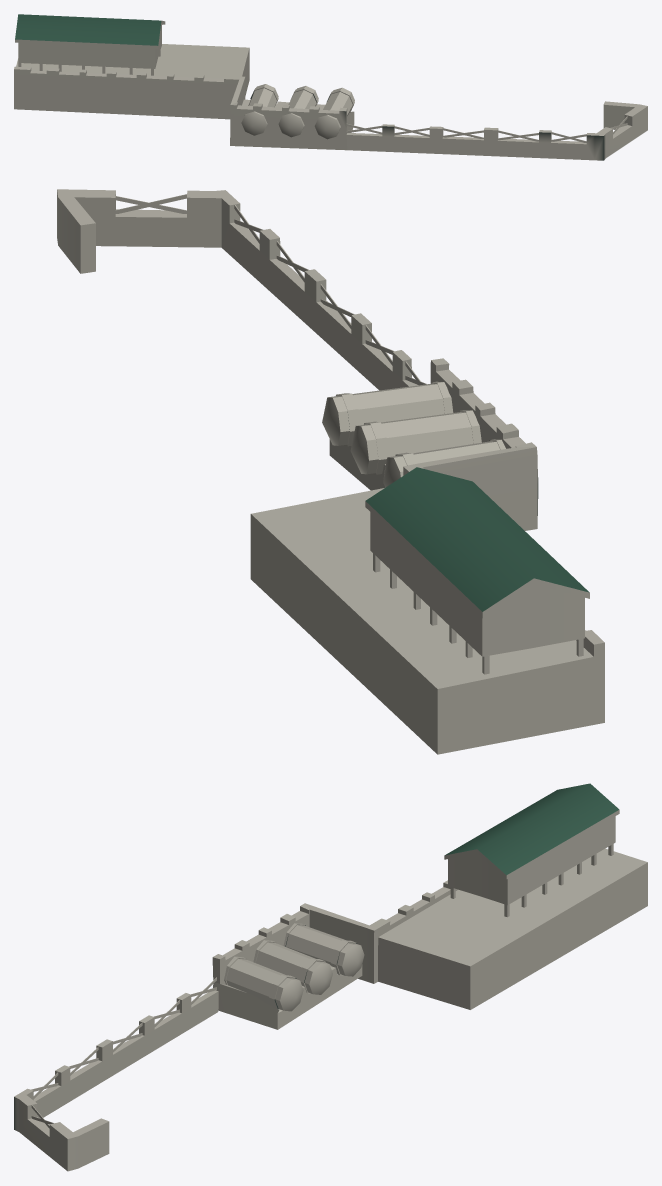
3 views of the same model, one above another, from view 1: azimuth 30°, elevation 25°; view 2: azimuth 150°, elevation 25°; view 3: azimuth 270°, elevation 25° (orthographic). The views are drawn at different scales.
Parts seen in each view (by area): view 1: pCube36:PIV; view 2: pCube36:PIV; view 3: pCube36:PIV.
Part boxes in pixels (x1=…): pCube36:PIV: x1=14, y1=14, x2=647, y2=160; pCube36:PIV: x1=57, y1=189, x2=604, y2=754; pCube36:PIV: x1=14, y1=783, x2=647, y2=1171.
Bounding box in the file's own units: 191 × 31.77 × 173.
